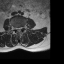CCS_normal: (18, 25, 19, 33)
LFS_normal: (21, 25, 23, 30)
LLS_normal: (19, 25, 21, 32)
RFS_normal: (14, 24, 15, 31)
RLS_normal: (15, 25, 17, 31)
